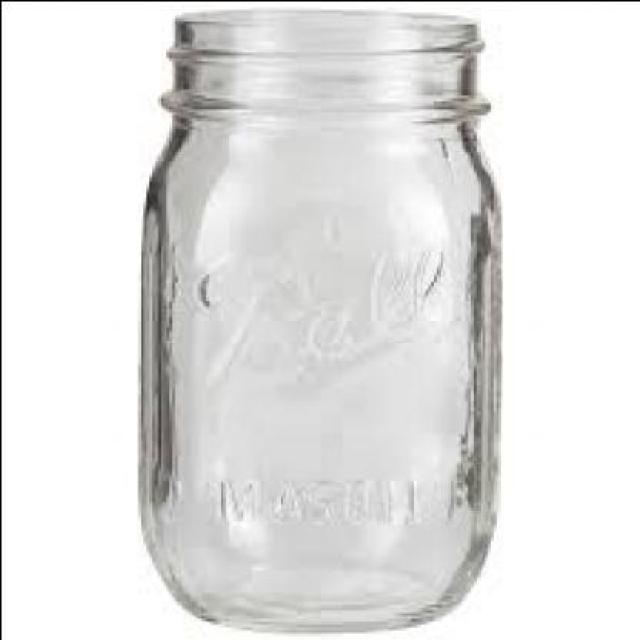GLASS: (133, 6, 498, 628)
